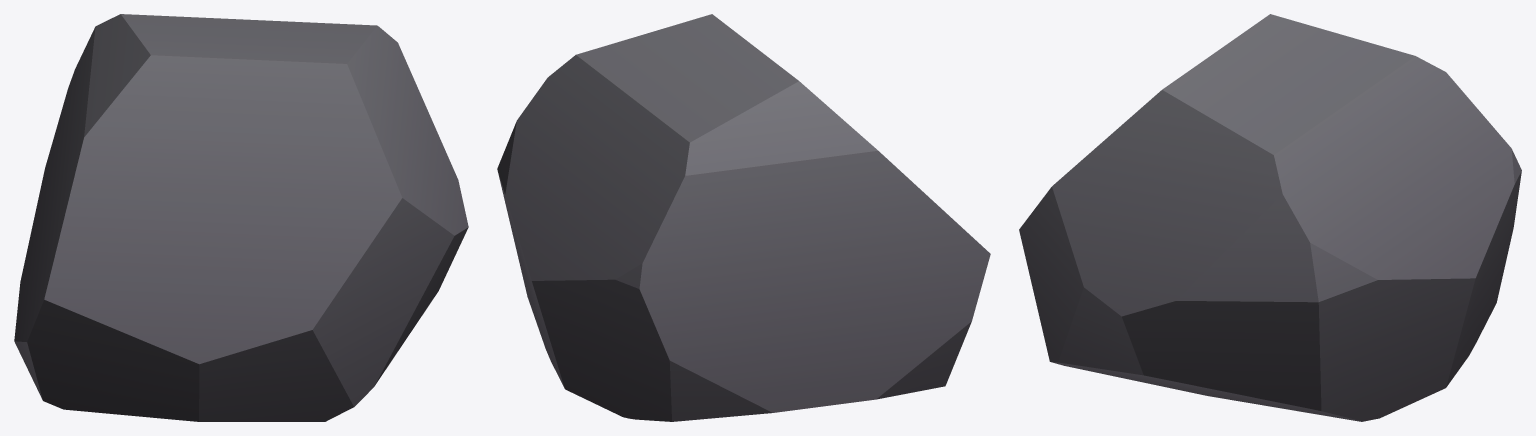
File: Rock_01.glb
The picture shows the model from 3 angles, left to right: view 1: azimuth 30°, elevation 25°; view 2: azimuth 150°, elevation 25°; view 3: azimuth 270°, elevation 25°; orthographic projection. The views are drawn at different scales.
Visible parts, largest first — view 1: Rock_01_LOD0; view 2: Rock_01_LOD0; view 3: Rock_01_LOD0.
Boxes of the visible parts, x1,y1,x2,y2 form: Rock_01_LOD0: [14, 14, 468, 421]; Rock_01_LOD0: [497, 14, 990, 421]; Rock_01_LOD0: [1019, 14, 1521, 421].
Size of what is drawn, in the model's own units: 1.11 by 0.8259 by 1.08.
Materials: 1 (1 with a texture image).
